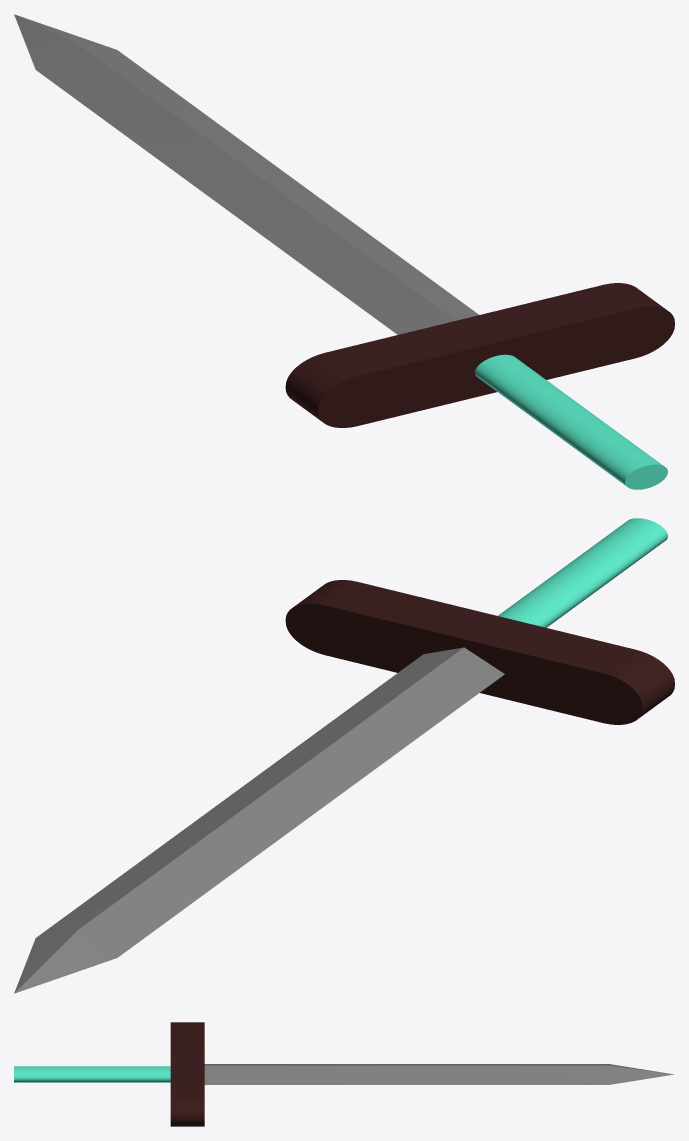
The model's file is Sword.fbx.
The picture shows the model from 3 angles, top to bottom: view 1: azimuth 30°, elevation 25°; view 2: azimuth 150°, elevation 25°; view 3: azimuth 270°, elevation 25°; orthographic projection. The views are drawn at different scales.
Parts seen in each view (by area): view 1: 立方体, 立方体.001, 円柱; view 2: 立方体, 立方体.001, 円柱; view 3: 立方体, 立方体.001, 円柱.
Boxes of the visible parts, left/top/right/bottom form: 立方体: left=14, top=14, right=478, bottom=334; 立方体.001: left=285, top=283, right=674, bottom=427; 円柱: left=475, top=354, right=667, bottom=489; 立方体: left=14, top=647, right=504, bottom=993; 立方体.001: left=285, top=580, right=674, bottom=724; 円柱: left=498, top=518, right=667, bottom=627; 立方体: left=204, top=1064, right=674, bottom=1084; 立方体.001: left=170, top=1022, right=204, bottom=1126; 円柱: left=14, top=1066, right=170, bottom=1082.
Bounding box in the file's own units: 2.13 × 0.2841 × 6.53.
